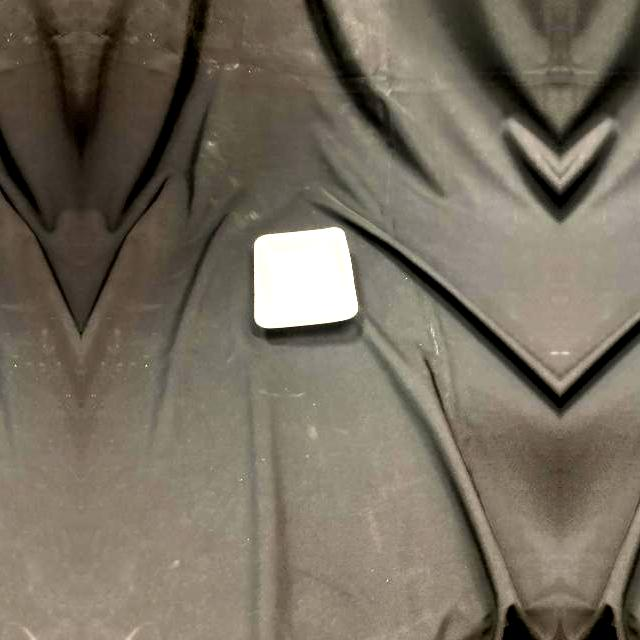Styrofoam: (252, 226, 358, 330), (253, 227, 358, 328)
